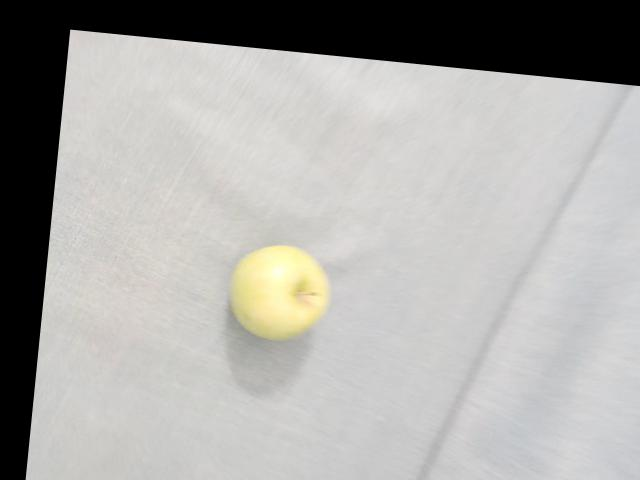apple: (246, 258, 335, 337)
